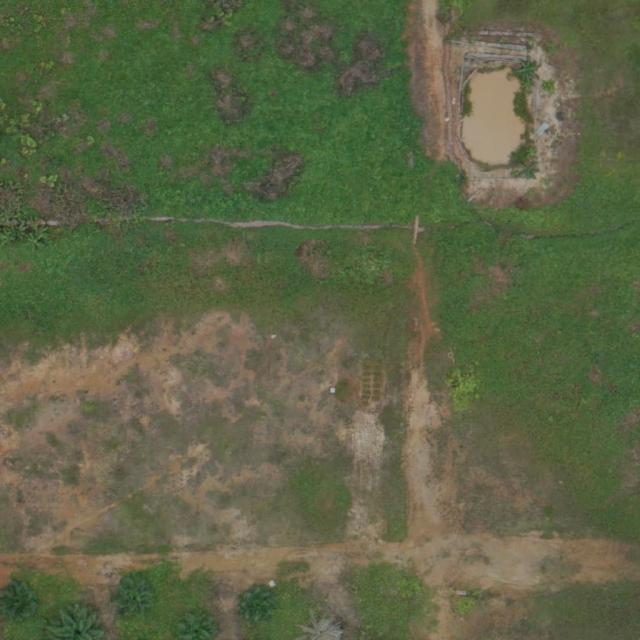Small: (117, 580, 156, 620), (2, 582, 42, 621), (237, 586, 276, 625)
